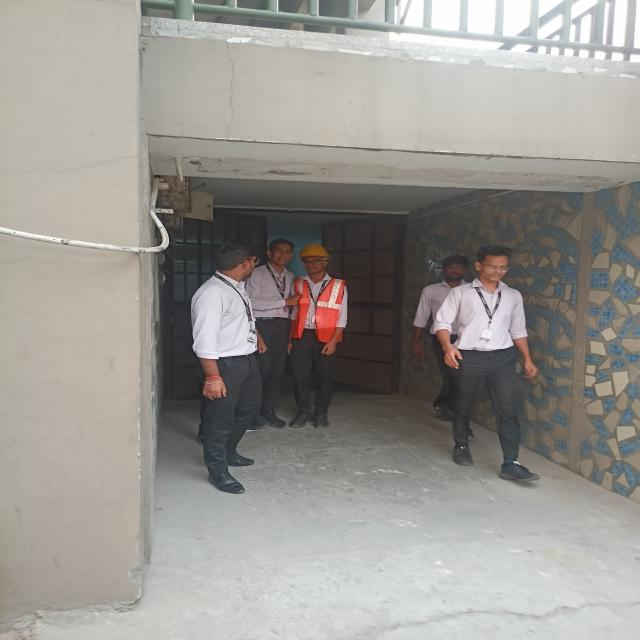safe: (295, 244, 346, 433)
unsafe: (455, 243, 542, 486), (192, 242, 264, 493), (409, 253, 468, 429), (254, 234, 295, 432)
